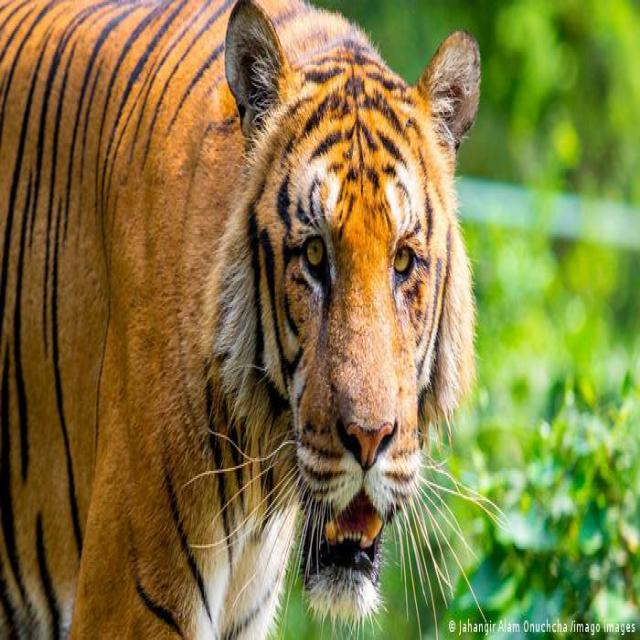Boar: (0, 0, 507, 638)
